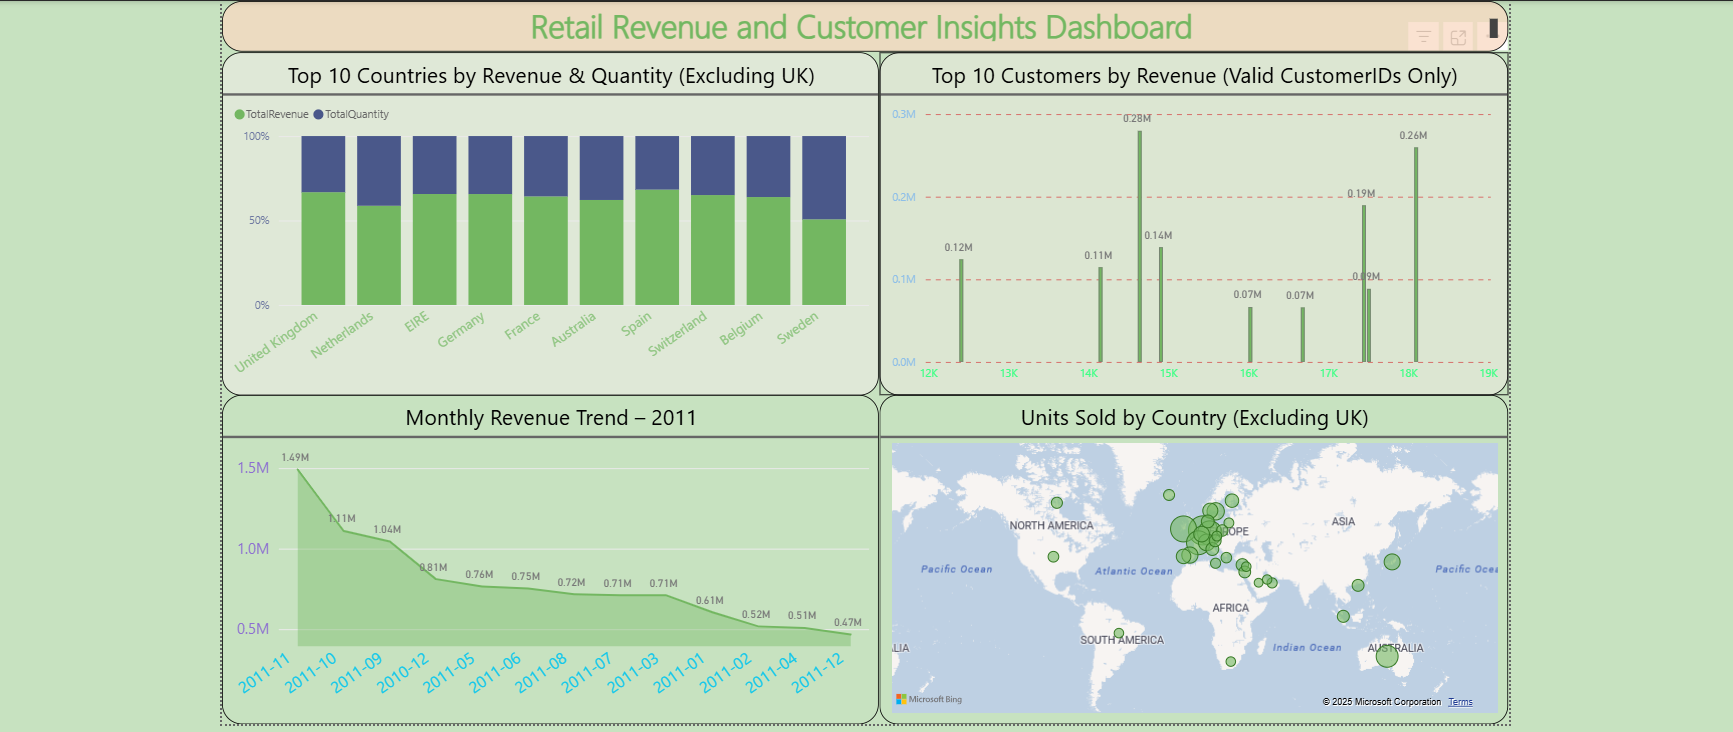

What the dashboard file says about the page in this screenshot:
{"tool":"powerbi","page":{"name":"Page 1","canvas":[1280,720],"ordinal":0},"visuals":[{"type":"lineChart","title":"Monthly Revenue Trend – 2011","fields":{"Y":["Online Retail.TotalRevenue"],"Category":["Online Retail.YearMonth"]},"box":[0,392.1,653.9,328.1],"z":0},{"type":"hundredPercentStackedColumnChart","title":"Top 10 Countries by Revenue & Quantity (Excluding UK)","fields":{"Category":["Online Retail.Country"],"Y":["Online Retail.TotalRevenue","Online Retail.TotalQuantity"]},"box":[0,50.6,653.9,341.6],"z":1},{"type":"clusteredColumnChart","title":"Top 10 Customers by Revenue (Valid CustomerIDs Only)","fields":{"Y":["Online Retail.TotalRevenue"],"Category":["Online Retail.CustomerID"]},"box":[654.3,50.6,625.9,342],"z":2},{"type":"map","title":"Units Sold by Country (Excluding UK)","fields":{"Category":["Online Retail.Country"],"Size":["Online Retail.TotalQuantity"]},"box":[653.9,392.1,625.8,328.1],"z":3},{"type":"textbox","box":[100,25.8,300,48.3],"z":4},{"type":"textbox","box":[100,0,300,50.6],"z":5},{"type":"textbox","box":[0,0,1279.8,50.6],"z":6}]}

Visuals, with their boxes in screenshot pixels (x1, y1, x2, y2):
"Monthly Revenue Trend – 2011" lineChart: box=[221, 393, 876, 721]
"Top 10 Countries by Revenue & Quantity (Excluding UK)" hundredPercentStackedColumnChart: box=[221, 51, 876, 393]
"Top 10 Customers by Revenue (Valid CustomerIDs Only)" clusteredColumnChart: box=[876, 51, 1503, 393]
"Units Sold by Country (Excluding UK)" map: box=[876, 393, 1503, 721]
textbox: box=[321, 26, 622, 74]
textbox: box=[321, 0, 622, 51]
textbox: box=[221, 0, 1503, 51]
